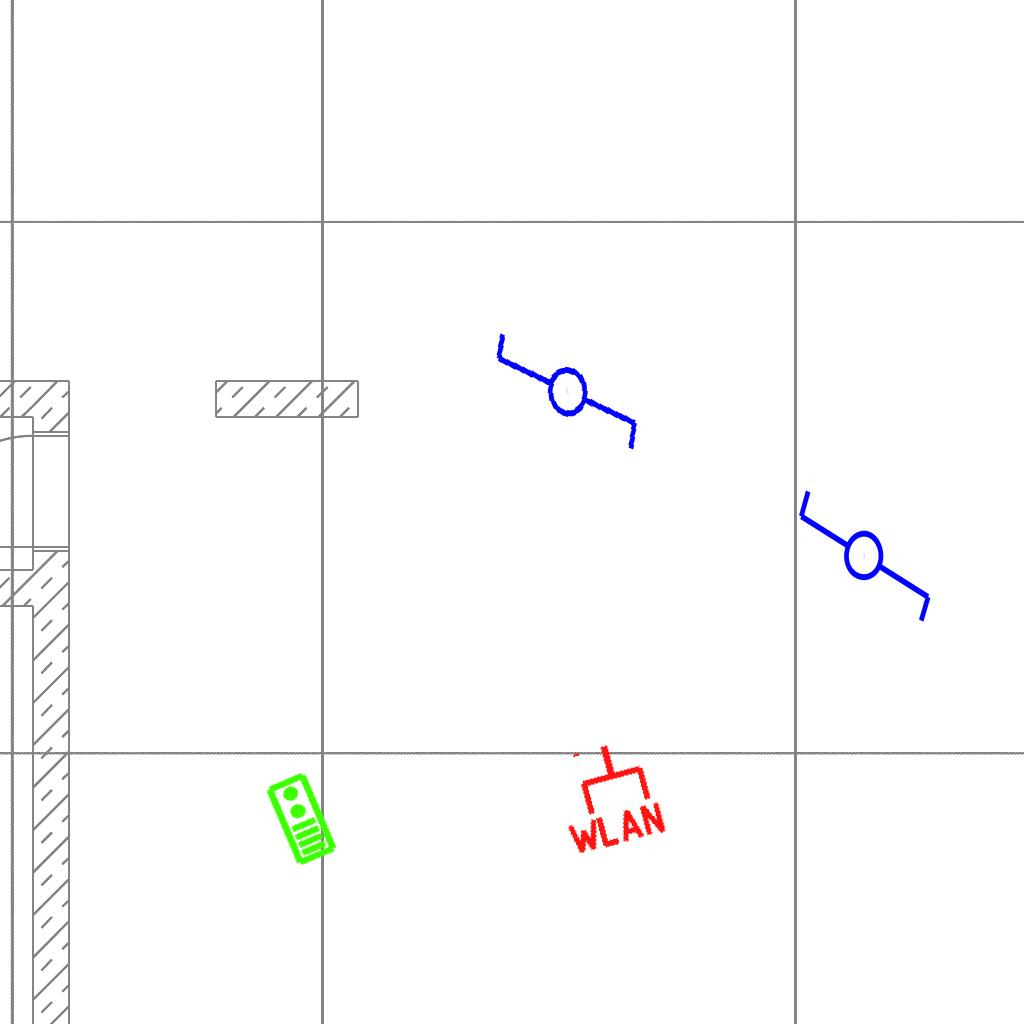Gegensprechanlage_mit_Video: (261, 769, 340, 869)
WLAN: (543, 730, 672, 860)
Wechselschalter: (485, 313, 648, 487), (794, 469, 938, 626)
